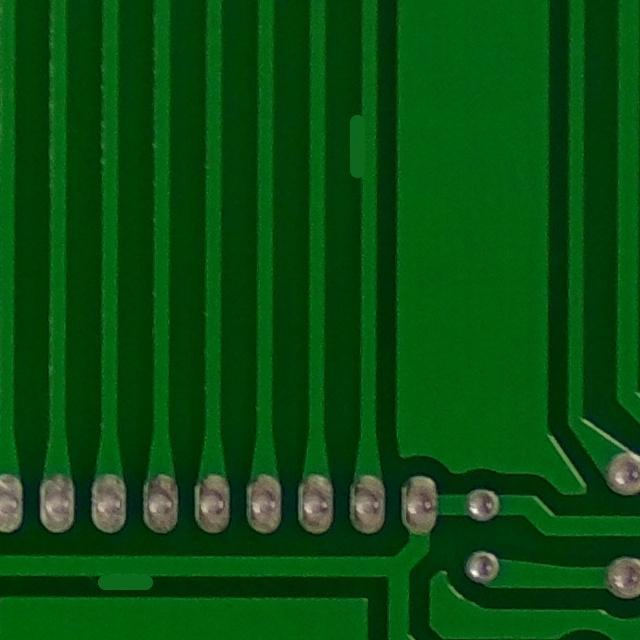spur: (331, 104, 387, 190), (78, 539, 164, 594)
